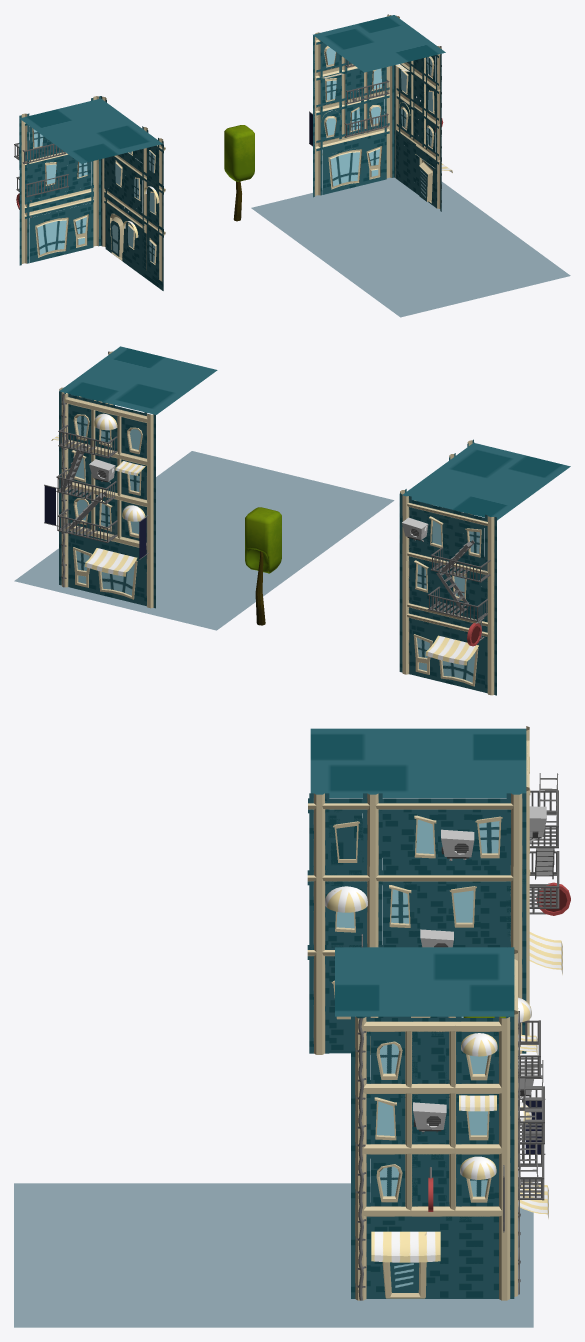
The model's file is Chunk02.fbx.
3 renders of one model, top to bottom at view 1: azimuth 30°, elevation 25°; view 2: azimuth 150°, elevation 25°; view 3: azimuth 270°, elevation 25°, orthographic. The views are drawn at different scales.
Parts seen in each view (by area): view 1: Plane__9_, Mur_003__21_, Mur_003__5__2, Boutique_001, Boutique_001__1_, feuillage1, Porte_001__1_, Porte_002__1_, Fenetre_001__8__3, Fenetre_002__3__2, Fenetre_001__7__2, Fenetre_003__5__3 (+5 smaller); view 2: Plane__9_, Mur_003__21_, Mur_003__5__2, Boutique_001__1_, Boutique_001, feuillage1, Auvent_001, Auvent_001__1__1, Balcon_002__2_, Balcon_002, Balcon_002__3_, Balcon_002__1_ (+12 smaller); view 3: Plane__9_, Mur_003__21_, Mur_003__5__2, Porte_001__1_, Auvent_001__1_, Mur_003__22_, Fenetre_002__1__1, Fenetre_002, Fenetre_003_1, Fenetre_001__7__3, Fenetre_003__5_, Fenetre_001__7_ (+46 smaller).
Part boxes in pixels (bbox=[...]): Plane__9_: bbox=[251, 177, 570, 317]; Mur_003__21_: bbox=[19, 98, 162, 163]; Mur_003__5__2: bbox=[313, 15, 445, 72]; Boutique_001: bbox=[29, 203, 91, 262]; Boutique_001__1_: bbox=[323, 135, 384, 194]; feuillage1: bbox=[224, 125, 254, 181]; Porte_001__1_: bbox=[416, 148, 435, 207]; Porte_002__1_: bbox=[107, 205, 126, 260]; Fenetre_001__8__3: bbox=[322, 109, 339, 140]; Fenetre_002__3__2: bbox=[322, 75, 339, 104]; Fenetre_001__7__2: bbox=[367, 98, 384, 129]; Fenetre_003__5__3: bbox=[346, 103, 363, 134]; Plane__9_: bbox=[14, 451, 394, 630]; Mur_003__21_: bbox=[402, 443, 570, 520]; Mur_003__5__2: bbox=[59, 346, 217, 414]; Boutique_001__1_: bbox=[70, 534, 144, 605]; Boutique_001: bbox=[411, 621, 484, 692]; feuillage1: bbox=[245, 507, 281, 573]; Auvent_001: bbox=[425, 635, 478, 665]; Auvent_001__1__1: bbox=[85, 548, 137, 576]; Balcon_002__2_: bbox=[427, 586, 487, 621]; Balcon_002: bbox=[57, 508, 117, 542]; Balcon_002__3_: bbox=[430, 547, 490, 582]; Balcon_002__1_: bbox=[56, 469, 116, 504]; Plane__9_: bbox=[14, 1183, 533, 1327]; Mur_003__21_: bbox=[310, 728, 526, 797]; Mur_003__5__2: bbox=[335, 947, 514, 1016]; Porte_001__1_: bbox=[370, 1220, 439, 1298]; Auvent_001__1_: bbox=[371, 1231, 440, 1262]; Mur_003__22_: bbox=[328, 810, 362, 870]; Fenetre_002__1__1: bbox=[472, 813, 506, 860]; Fenetre_002: bbox=[446, 883, 480, 929]; Fenetre_003_1: bbox=[383, 883, 417, 929]; Fenetre_001__7__3: bbox=[371, 1158, 402, 1202]; Fenetre_003__5_: bbox=[370, 1097, 400, 1140]; Fenetre_001__7_: bbox=[371, 1036, 402, 1079].
Bounding box in the file's own units: 11698 × 4532 × 8045.
